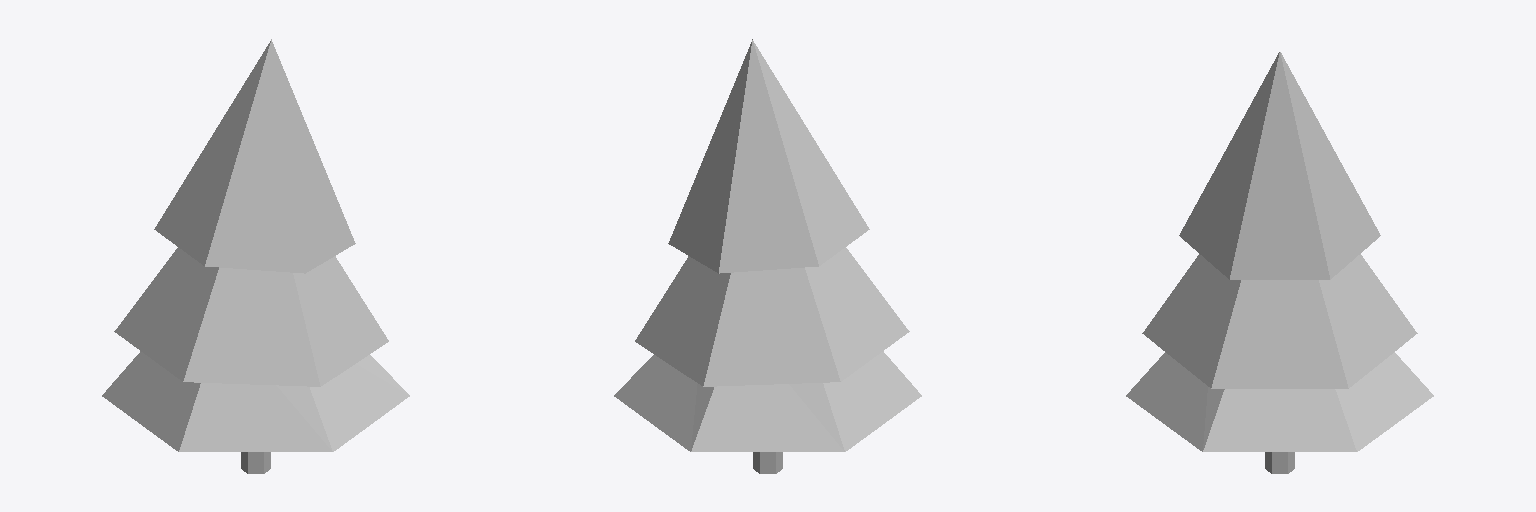
Rendered from tree_4.obj.
3 renders of one model, left to right at view 1: azimuth 30°, elevation 25°; view 2: azimuth 150°, elevation 25°; view 3: azimuth 270°, elevation 25°, orthographic.
Parts seen in each view (by area): view 1: Tree_Type1_03_mesh; view 2: Tree_Type1_03_mesh; view 3: Tree_Type1_03_mesh.
Boxes of the visible parts, <box> form: Tree_Type1_03_mesh: <box>102,39,409,473</box>; Tree_Type1_03_mesh: <box>614,39,921,473</box>; Tree_Type1_03_mesh: <box>1126,52,1433,473</box>.
Size of the model in its own units: 1.75 by 3.07 by 2.02.